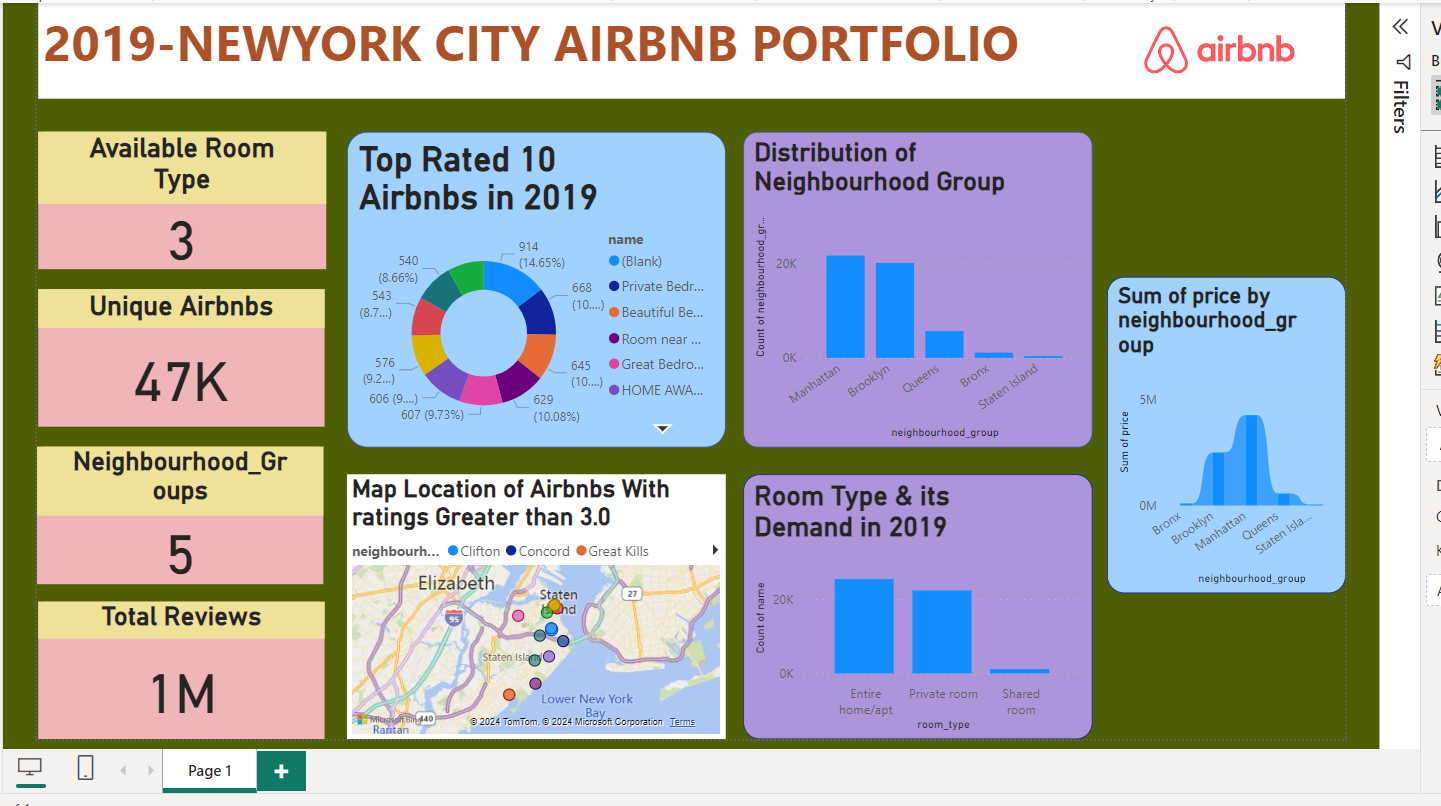

Layout of this report page (visuals, bound fields, positions):
{"tool":"powerbi","page":{"name":"Page 1","canvas":[1280,720],"ordinal":0},"visuals":[{"type":"card","title":"Available Room Type","fields":{"Values":["AB_NYC_2019.Room type count"]},"box":[1.4,126.2,281.3,134.1],"z":0,"group":"g1"},{"type":"columnChart","title":"Distribution of Neighbourhood Group","fields":{"Category":["AB_NYC_2019.neighbourhood_group"],"Y":["AB_NYC_2019.neighbourhood_group"]},"box":[690.2,126.2,341.7,308.7],"z":0},{"type":"donutChart","title":"Top Rated 10 Airbnbs in 2019","fields":{"Category":["AB_NYC_2019.name"],"Y":["AB_NYC_2019.number_of_reviews"]},"box":[303.3,126.2,370.5,308.7],"z":1000},{"type":"card","title":"Unique Airbnbs","fields":{"Values":["AB_NYC_2019.Unique Airbnb"]},"box":[1.4,280.4,279.9,134.1],"z":1000,"group":"g1"},{"type":"card","title":"Neighbourhood_Groups","fields":{"Values":["AB_NYC_2019.NG Count"]},"box":[0,434.6,279.9,134.1],"z":2000,"group":"g1"},{"type":"map","title":"Map Location of Airbnbs With ratings Greater than 3.0","fields":{"Category":["AB_NYC_2019.name"],"Series":["AB_NYC_2019.neighbourhood"],"Y":["AB_NYC_2019.latitude"],"X":["AB_NYC_2019.longitude"],"Size":["AB_NYC_2019.number_of_reviews"]},"box":[303.3,461.1,370.5,259.3],"z":2000},{"type":"group","id":"g1","title":"Group 1","box":[0,126.2,282.7,594.2],"z":3000},{"type":"card","title":"Total Reviews","fields":{"Values":["AB_NYC_2019.number_of_reviews"]},"box":[1.4,586.2,279.9,134.1],"z":3000,"group":"g1"},{"type":"lineStackedColumnComboChart","title":"Room Type & its Demand in 2019","fields":{"Category":["AB_NYC_2019.room_type"],"Y":["AB_NYC_2019.name"]},"box":[690.2,461.1,341.7,259.3],"z":4000},{"type":"textbox","box":[1.4,0,1278.9,93.3],"z":5000},{"type":"image","box":[1031.7,0,248.1,92.9],"z":6000},{"type":"ribbonChart","fields":{"Category":["AB_NYC_2019.neighbourhood_group"],"Y":["AB_NYC_2019.price"]},"box":[1046.4,267.7,233.5,309.3],"z":7000}]}

Visuals, with their boxes on the page's 1280x720 design canvas (x1, y1, x2, y2). These are canvas units, not pixel positions in the 1441x806 screenshot, which may show the page scaled, cropped or inside an application window:
"Available Room Type" card: select_region(1, 126, 283, 260)
"Distribution of Neighbourhood Group" columnChart: select_region(690, 126, 1032, 435)
"Top Rated 10 Airbnbs in 2019" donutChart: select_region(303, 126, 674, 435)
"Unique Airbnbs" card: select_region(1, 280, 281, 414)
"Neighbourhood_Groups" card: select_region(0, 435, 280, 569)
"Map Location of Airbnbs With ratings Greater than 3.0" map: select_region(303, 461, 674, 720)
"Group 1" group: select_region(0, 126, 283, 720)
"Total Reviews" card: select_region(1, 586, 281, 720)
"Room Type & its Demand in 2019" lineStackedColumnComboChart: select_region(690, 461, 1032, 720)
textbox: select_region(1, 0, 1280, 93)
image: select_region(1032, 0, 1280, 93)
ribbonChart - AB_NYC_2019.neighbourhood_group x AB_NYC_2019.price: select_region(1046, 268, 1280, 577)
